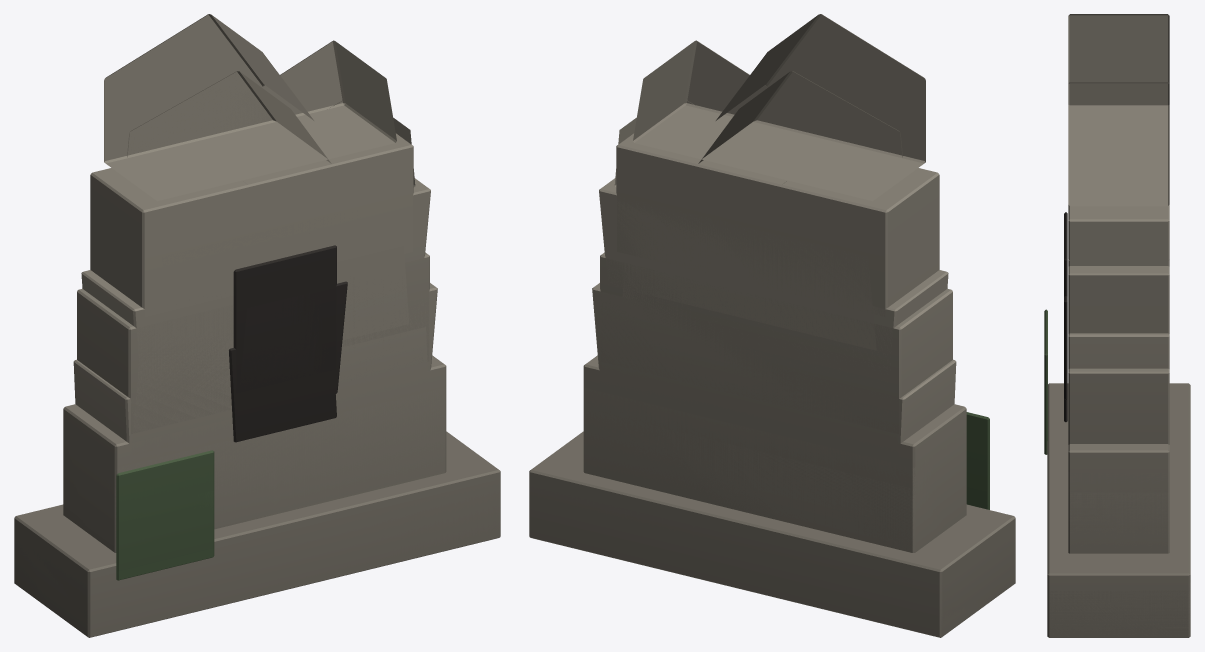
File: v2_swamp_kit.glb
The picture shows the model from 3 angles, left to right: view 1: azimuth 30°, elevation 25°; view 2: azimuth 150°, elevation 25°; view 3: azimuth 270°, elevation 25°; orthographic projection. The views are drawn at different scales.
Parts seen in each view (by area): view 1: kit_tomb_0, kit_tomb_1, kit_tomb_2; view 2: kit_tomb_0, kit_tomb_1, kit_tomb_2; view 3: kit_tomb_0, kit_tomb_1, kit_tomb_2.
Boxes of the visible parts, bbox=[...] form: kit_tomb_0: bbox=[14, 14, 500, 636]; kit_tomb_1: bbox=[14, 71, 500, 636]; kit_tomb_2: bbox=[14, 181, 499, 637]; kit_tomb_0: bbox=[529, 14, 1015, 636]; kit_tomb_1: bbox=[529, 71, 1015, 636]; kit_tomb_2: bbox=[530, 181, 1015, 637]; kit_tomb_0: bbox=[1044, 14, 1190, 636]; kit_tomb_1: bbox=[1044, 82, 1190, 609]; kit_tomb_2: bbox=[1044, 399, 1190, 637].
Size of the model in its own units: 0.76 by 0.939 by 0.245.
